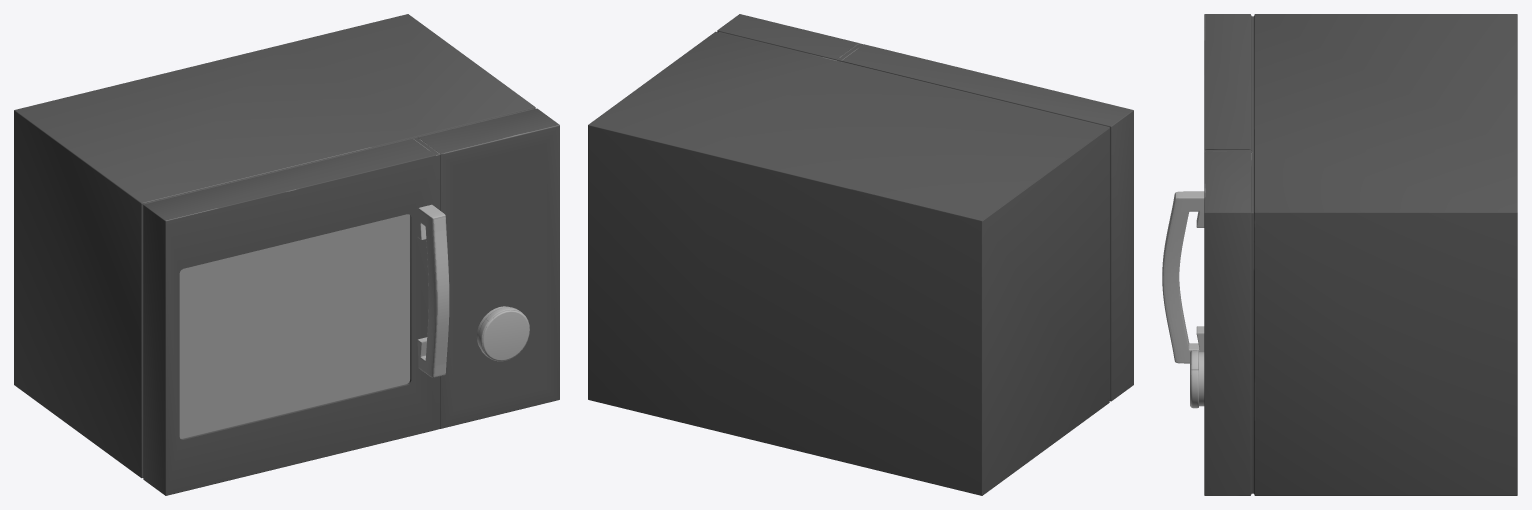
File: Microwave.fbx
The picture shows the model from 3 angles, left to right: view 1: azimuth 30°, elevation 25°; view 2: azimuth 150°, elevation 25°; view 3: azimuth 270°, elevation 25°; orthographic projection. The views are drawn at different scales.
Visible parts, largest first — view 1: Microwave_Baked; view 2: Microwave_Baked; view 3: Microwave_Baked.
Part boxes in pixels (x1,y1,x2,y2): Microwave_Baked: (14, 14, 559, 495); Microwave_Baked: (588, 14, 1133, 495); Microwave_Baked: (1162, 14, 1517, 495).
Size of the model in its own units: 75 by 50 by 56.73.
1 material, 1 textured.
